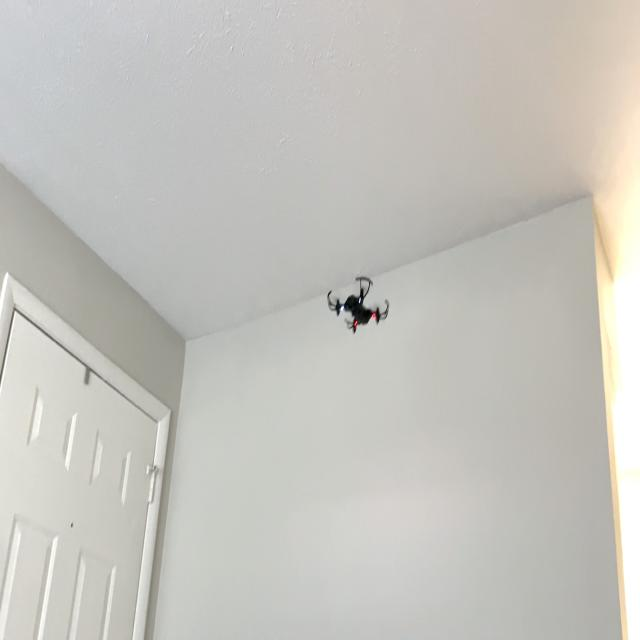drone: (319, 263, 395, 351)
